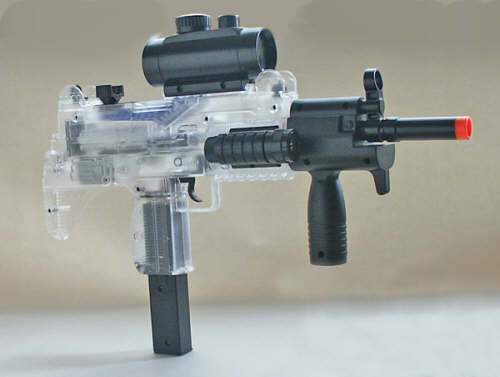rifle: (49, 24, 479, 365)
